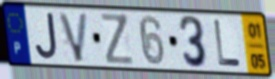3: (178, 15, 210, 71)
6: (137, 14, 167, 67)
J: (34, 11, 60, 61)
L: (212, 19, 243, 69)
V: (57, 11, 91, 64)
Z: (98, 12, 136, 67)
